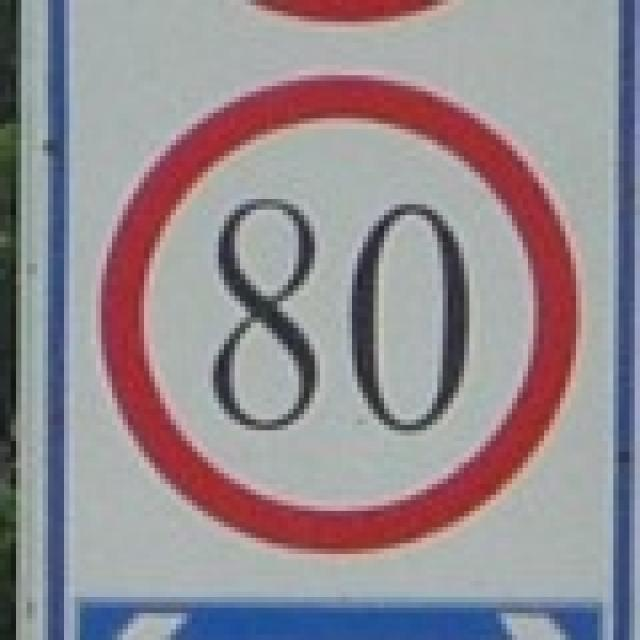Speed Limit -80-: (209, 195, 474, 439)
